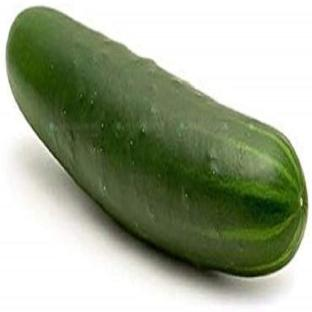Cucumber: (7, 8, 307, 275)
